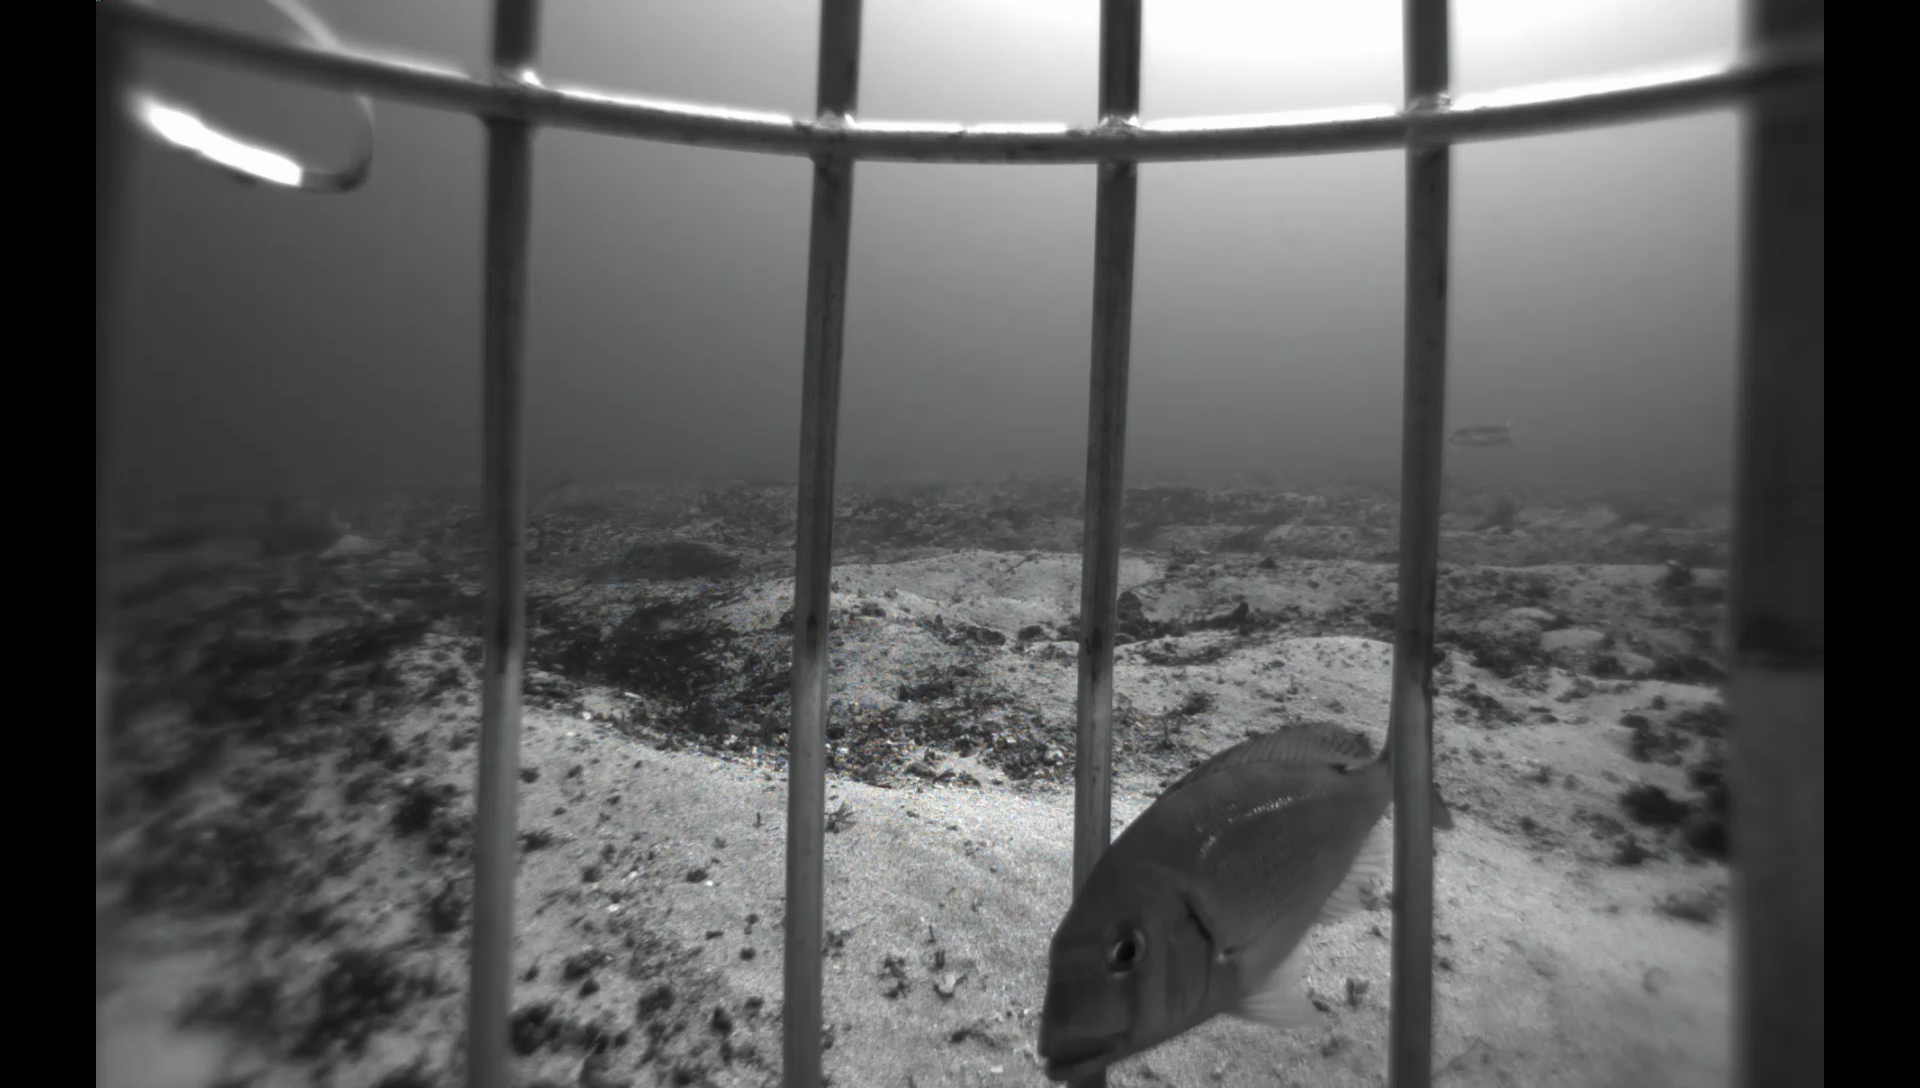MALACANTHUSPLUMIERI-170070301: (1447, 417, 1519, 450)
PAGRUSPAGRUS-170212302: (1021, 626, 1447, 1088)
POMACANTHUSARCUATUS-170290201: (225, 488, 357, 563)
